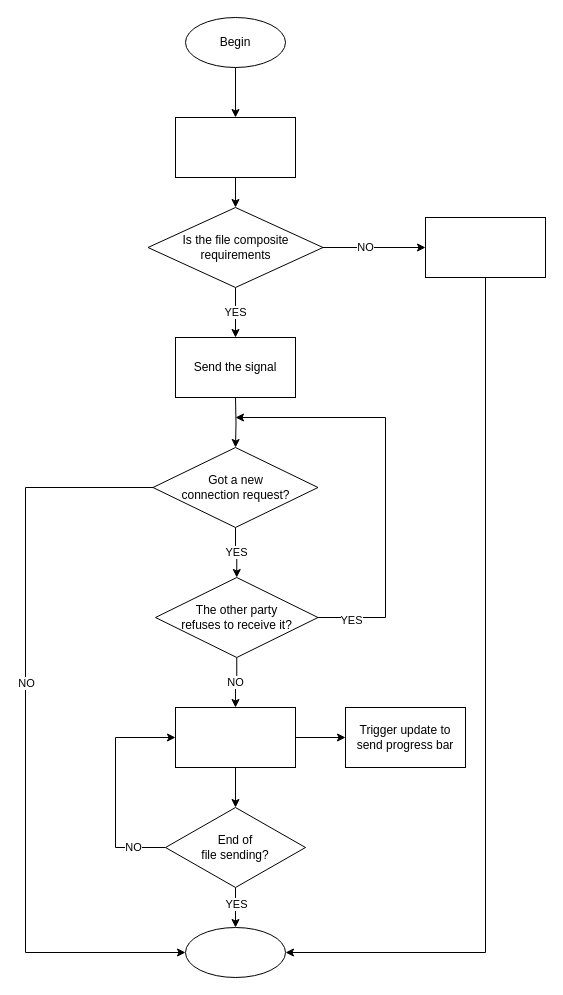
Image size: 563x995. Some labels were removed from this diagram. The box of each missing label's shape, as (x1, y1, x2, y2) in pixels:
End: (184, 926, 286, 978)
Open the send widget and select the file to send: (174, 116, 296, 178)
Refuse to send: (424, 216, 546, 278)
Sending files and related information: (174, 706, 296, 768)
